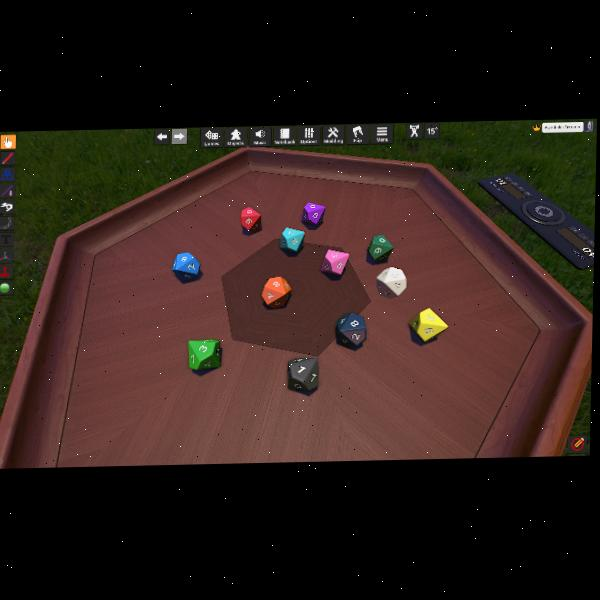d10: (410, 307, 445, 342), (287, 357, 318, 391), (188, 338, 220, 370), (262, 275, 293, 308), (339, 312, 368, 346), (376, 264, 403, 296), (172, 251, 200, 280), (368, 234, 393, 263), (322, 249, 348, 276), (280, 227, 303, 252), (302, 201, 324, 225), (240, 206, 260, 231)
